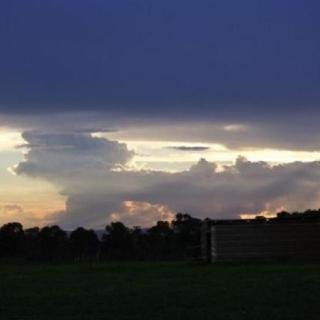Altostratus: (0, 99, 320, 208)
